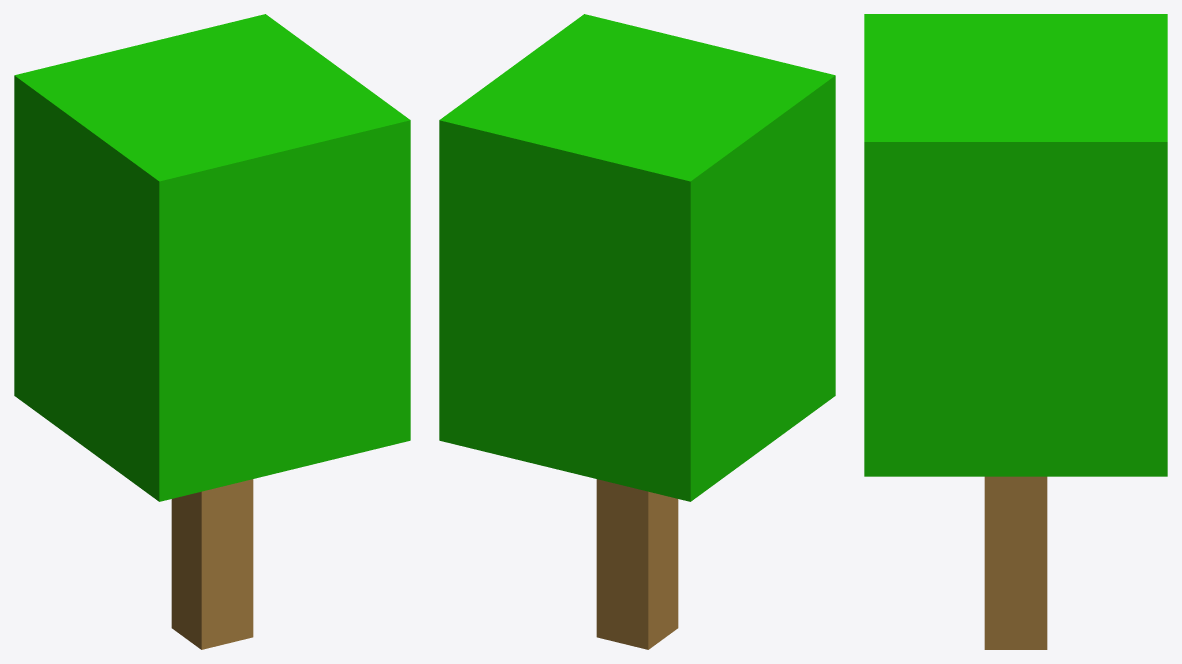
File: tree.glb
3 renders of one model, left to right at view 1: azimuth 30°, elevation 25°; view 2: azimuth 150°, elevation 25°; view 3: azimuth 270°, elevation 25°, orthographic. The views are drawn at different scales.
Visible parts, largest first — view 1: Cube; view 2: Cube; view 3: Cube.
Part boxes in pixels (box(x1,y1,x2,y2)): Cube: box(14, 14, 410, 649); Cube: box(439, 14, 835, 649); Cube: box(864, 14, 1167, 649).
Bounding box in the file's own units: 3.75 × 7.62 × 3.75.
